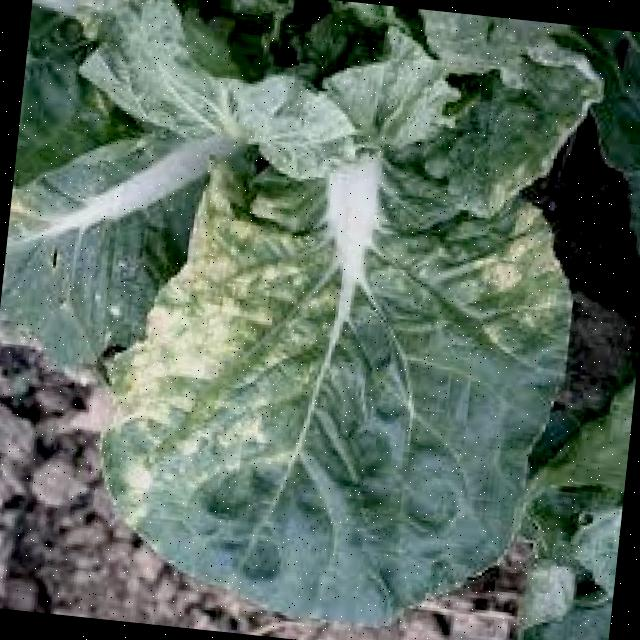Downy_mildew_on_lettuce: (120, 200, 354, 510)
